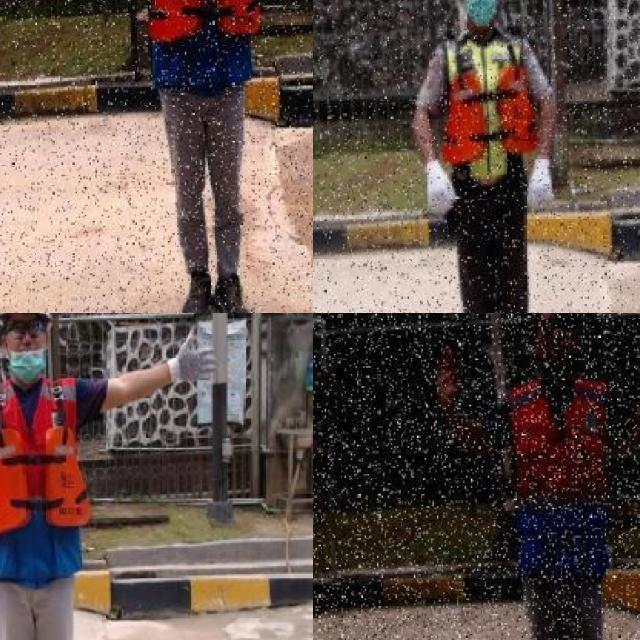apron: (166, 330, 218, 387), (422, 157, 460, 217), (524, 154, 558, 213)
